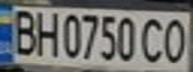0: (115, 14, 142, 63), (57, 9, 81, 60)
5: (97, 11, 118, 62)
7: (78, 10, 100, 61)
B: (6, 6, 39, 56)
C: (139, 15, 169, 64)
H: (30, 7, 60, 56)
O: (160, 15, 193, 65)
